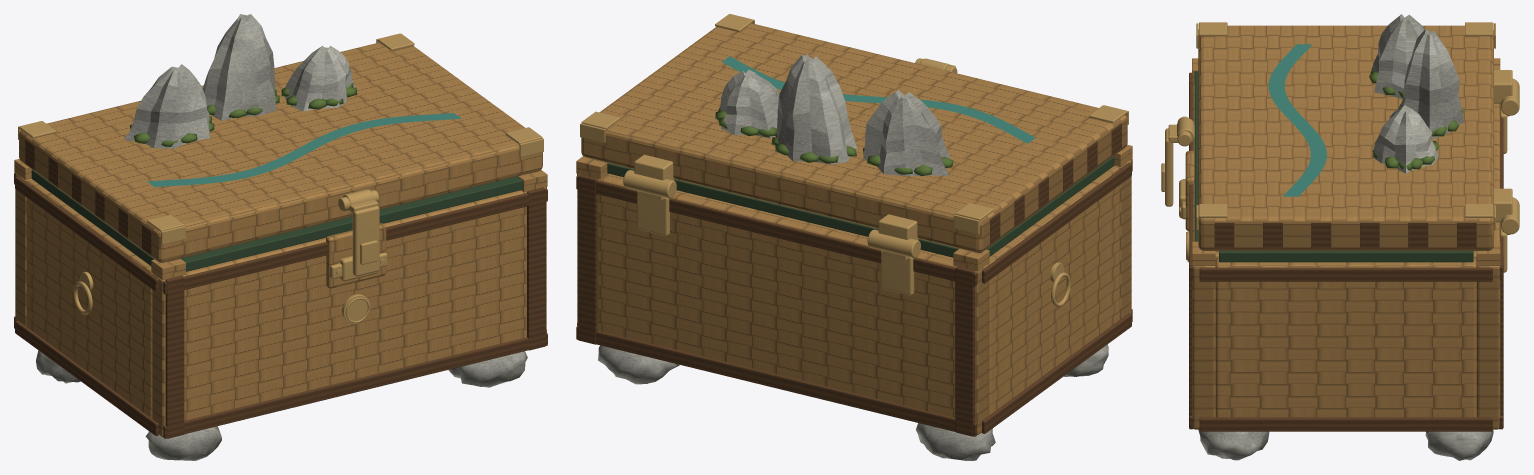
Rendered from laos.glb.
3 renders of one model, left to right at view 1: azimuth 30°, elevation 25°; view 2: azimuth 150°, elevation 25°; view 3: azimuth 270°, elevation 25°, orthographic. The views are drawn at different scales.
Visible parts, largest first — view 1: Lid / polished slab, Bamboo / woven front, Bamboo / woven side, Karst / peak 1, Bamboo frame / horizontal, Mineral seam / long, Karst / peak 0, Bamboo frame / horizontal.001, Bamboo frame / upright, Bamboo frame / upright.002, Karst / peak 2, River / Nam Song inspired inlay (+11 smaller); view 2: Lid / polished slab, Bamboo / woven rear, Bamboo / woven side, Karst / peak 1, Bamboo frame / horizontal.002, Karst / peak 0, Bamboo frame / horizontal.003, Bamboo frame / upright.003, Bamboo frame / upright.001, Karst / peak 2, Mineral seam / long.001, Bamboo frame / side.001 (+15 smaller); view 3: Lid / polished slab, Bamboo / woven side.001, Bamboo frame / side.002, Bamboo frame / side.003, Karst / peak 1, Bamboo / woven rear, Bamboo / woven front, Mineral seam / side.001, Karst / peak 2, River / Nam Song inspired inlay, Karst / peak 0, Limestone foot.002 (+24 smaller).
Part boxes in pixels (bbox=[...]): Lid / polished slab: bbox=[19, 42, 542, 262]; Bamboo / woven front: bbox=[152, 187, 546, 437]; Bamboo / woven side: bbox=[26, 179, 152, 418]; Karst / peak 1: bbox=[203, 14, 276, 120]; Bamboo frame / horizontal: bbox=[163, 332, 547, 438]; Mineral seam / long: bbox=[180, 176, 522, 271]; Karst / peak 0: bbox=[124, 64, 210, 148]; Bamboo frame / horizontal.001: bbox=[163, 188, 547, 294]; Bamboo frame / upright: bbox=[165, 275, 184, 438]; Bamboo frame / upright.002: bbox=[527, 187, 545, 350]; Karst / peak 2: bbox=[284, 45, 355, 111]; River / Nam Song inspired inlay: bbox=[147, 113, 460, 186]; Lid / polished slab: bbox=[581, 23, 1127, 253]; Bamboo / woven rear: bbox=[577, 173, 988, 434]; Bamboo / woven side: bbox=[988, 166, 1119, 415]; Karst / peak 1: bbox=[775, 54, 857, 164]; Bamboo frame / horizontal.002: bbox=[576, 326, 977, 436]; Karst / peak 0: bbox=[863, 90, 950, 175]; Bamboo frame / horizontal.003: bbox=[576, 175, 977, 286]; Bamboo frame / upright.003: bbox=[578, 174, 597, 344]; Bamboo frame / upright.001: bbox=[955, 266, 974, 436]; Karst / peak 2: bbox=[718, 69, 779, 138]; Mineral seam / long.001: bbox=[607, 163, 958, 257]; Bamboo frame / side.001: bbox=[982, 163, 1131, 283]; Lid / polished slab: bbox=[1198, 25, 1493, 250]; Bamboo / woven side.001: bbox=[1215, 258, 1476, 417]; Bamboo frame / side.002: bbox=[1199, 417, 1492, 431]; Bamboo frame / side.003: bbox=[1199, 267, 1492, 281]; Karst / peak 1: bbox=[1400, 29, 1463, 138]; Bamboo / woven rear: bbox=[1476, 103, 1500, 429]; Bamboo / woven front: bbox=[1192, 82, 1215, 429]; Mineral seam / side.001: bbox=[1219, 251, 1473, 262]; Karst / peak 2: bbox=[1372, 105, 1438, 173]; River / Nam Song inspired inlay: bbox=[1268, 44, 1326, 196]; Karst / peak 0: bbox=[1370, 14, 1424, 99]; Limestone foot.002: bbox=[1198, 429, 1269, 460].
Size of the model in its own units: 3.82 by 3.1 by 2.88.
Materials: 7 (3 with a texture image).
